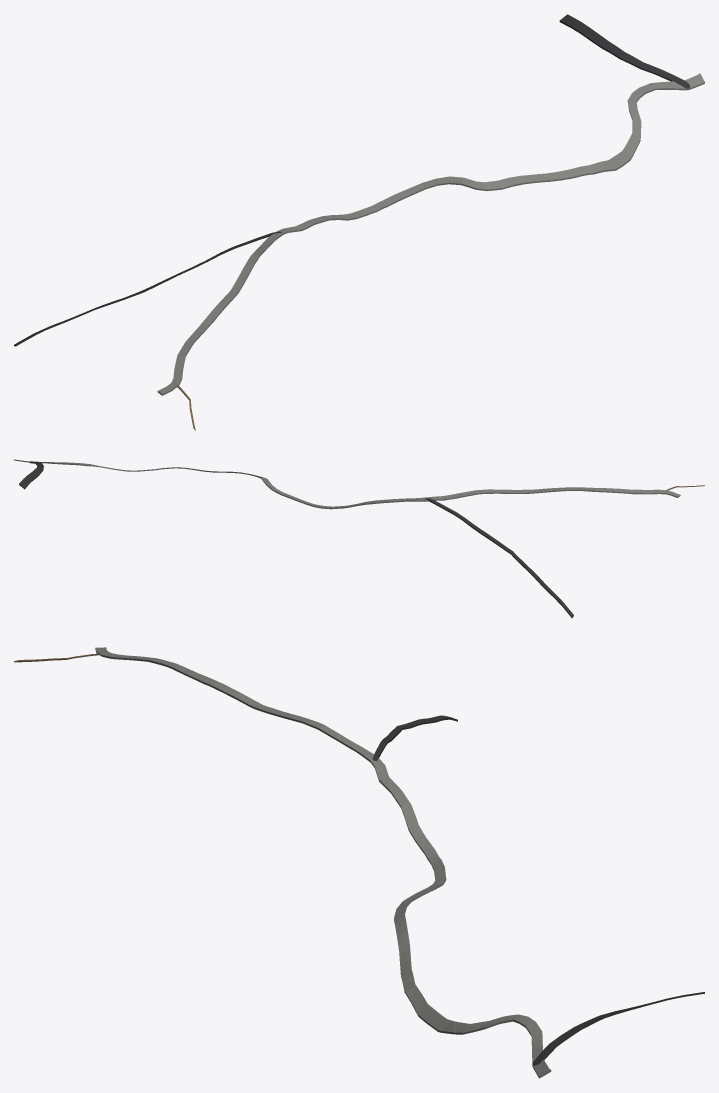
3 views of the same model, one above another, from view 1: azimuth 30°, elevation 25°; view 2: azimuth 150°, elevation 25°; view 3: azimuth 270°, elevation 25° (orthographic). The views are drawn at different scales.
Bounding box in the file's own units: 587 × 76.19 × 396.
